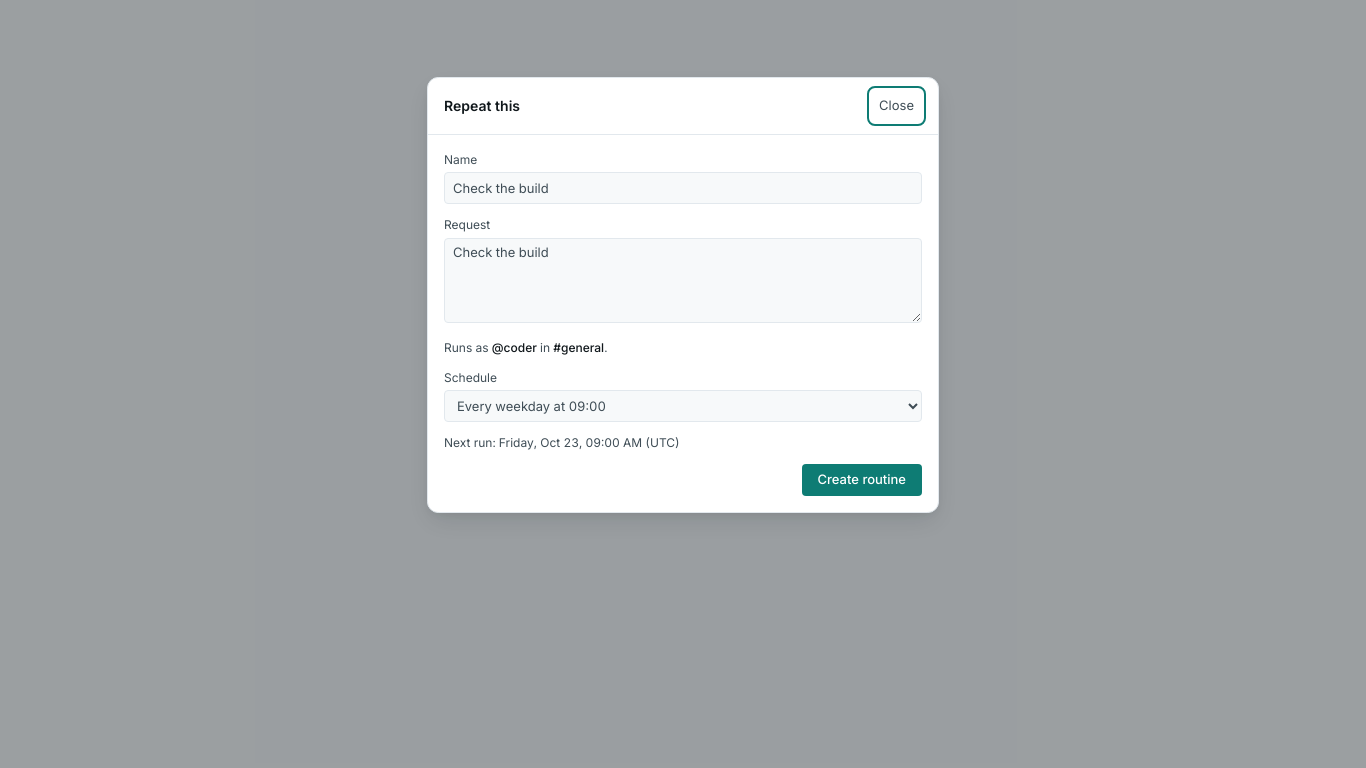
it: RepeatDialog › shows why the daemon refused
The image size is (1366, 768).
Click the button "Create routine" at (862, 480), box left=802, top=464, right=922, bottom=496
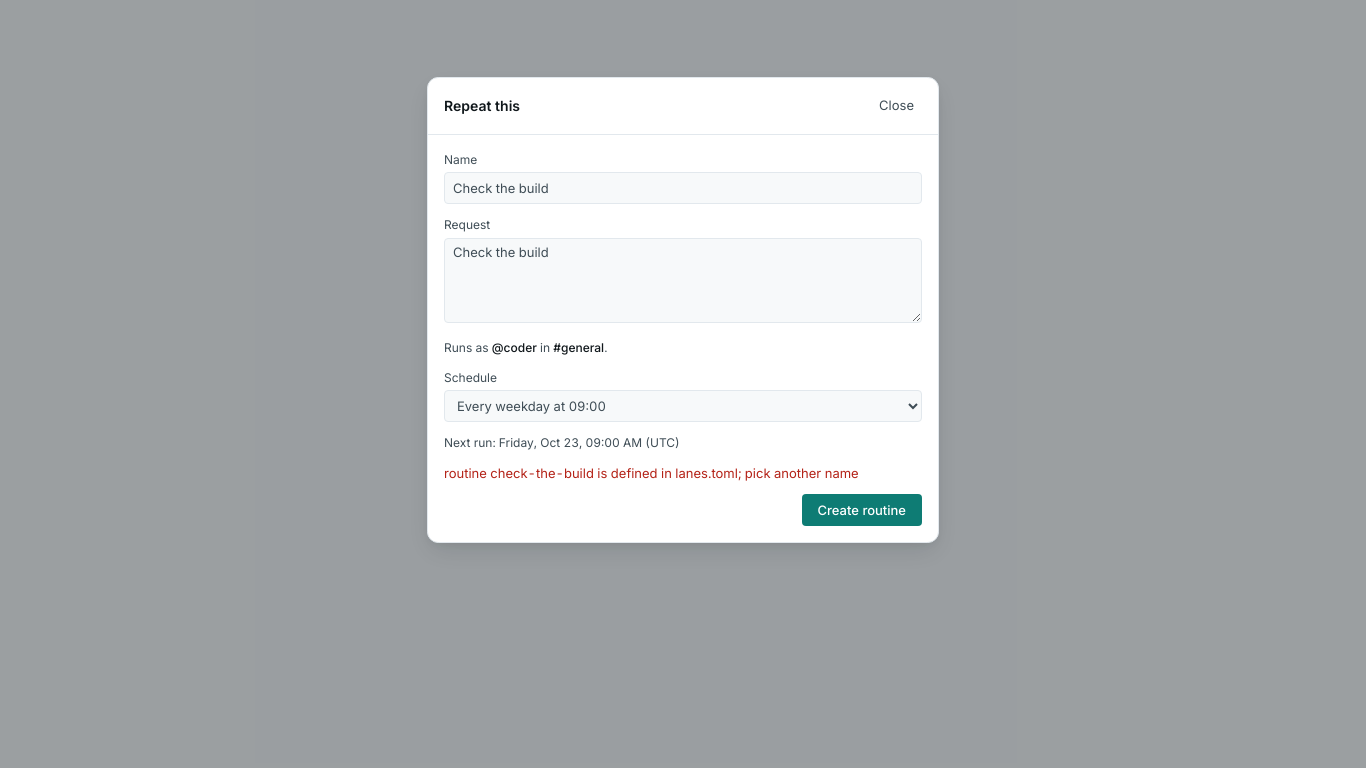
Expected: the message shows "defined in lanes.toml", left=444, top=464, right=859, bottom=480
